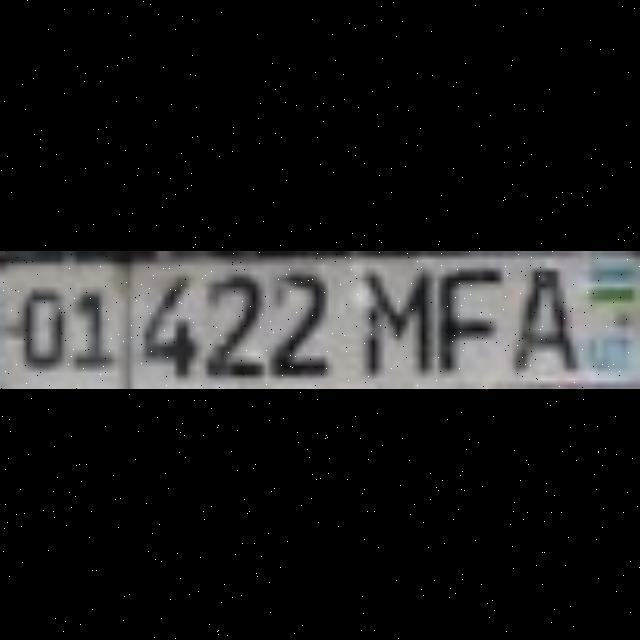0: (13, 282, 57, 364)
1: (63, 282, 107, 364)
2: (195, 264, 251, 370), (257, 264, 313, 370)
4: (132, 270, 188, 370)
A: (502, 264, 570, 370)
F: (426, 264, 496, 370)
M: (358, 264, 427, 370)
